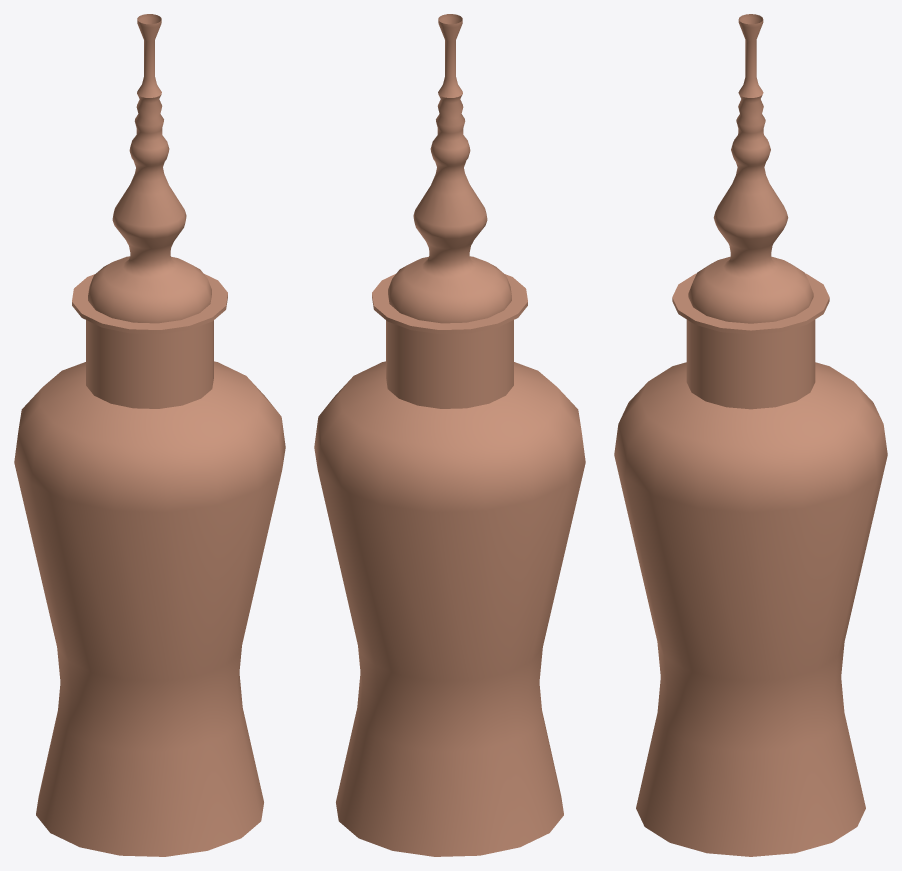
Rendered from qabo.glb.
3 views of the same model, side by side, from view 1: azimuth 30°, elevation 25°; view 2: azimuth 150°, elevation 25°; view 3: azimuth 270°, elevation 25° (orthographic).
Parts seen in each view (by area): view 1: qabo; view 2: qabo; view 3: qabo.
Boxes of the visible parts, x1,y1,x2,y2 form: qabo: [14, 14, 285, 856]; qabo: [314, 14, 585, 856]; qabo: [614, 14, 887, 856].
Size of what is drawn, in the model's own units: 1.43 by 4.54 by 1.43.
